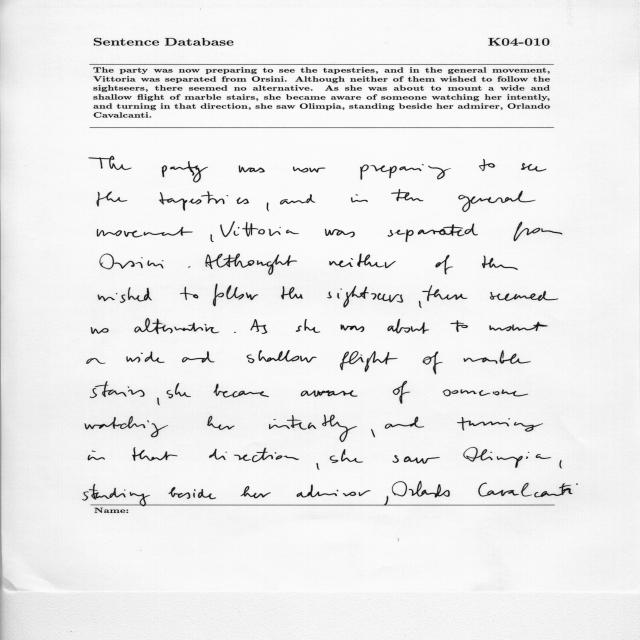word: (83, 484, 339, 505), (269, 415, 357, 442), (205, 254, 297, 275), (463, 447, 551, 468), (159, 191, 249, 211), (85, 416, 168, 437), (388, 223, 478, 242), (328, 286, 404, 308), (459, 191, 536, 212), (360, 164, 451, 180), (135, 318, 220, 334), (457, 417, 543, 432), (209, 448, 299, 462), (340, 351, 397, 372), (220, 222, 299, 237), (162, 161, 208, 183), (213, 284, 258, 306), (97, 227, 193, 237), (100, 254, 164, 269), (463, 350, 531, 364), (329, 254, 396, 268), (514, 222, 563, 241), (91, 381, 145, 398), (247, 350, 317, 363), (98, 287, 152, 303), (521, 483, 573, 498), (214, 384, 269, 398), (423, 285, 468, 301), (409, 481, 450, 498), (490, 291, 558, 301), (132, 447, 178, 461), (387, 319, 429, 334), (89, 156, 132, 170), (443, 390, 528, 397), (478, 483, 519, 497), (384, 481, 407, 505), (482, 255, 518, 270), (489, 322, 548, 331), (385, 416, 424, 429), (330, 449, 363, 463), (423, 352, 443, 375), (127, 351, 165, 363), (97, 192, 127, 207), (392, 455, 440, 464), (301, 390, 358, 397), (391, 189, 424, 201), (182, 351, 215, 363), (393, 381, 410, 404), (280, 194, 315, 205), (207, 416, 234, 430), (167, 383, 191, 398), (435, 255, 453, 274), (296, 319, 320, 333), (281, 287, 303, 300), (251, 319, 268, 334), (325, 229, 355, 237), (180, 287, 198, 300), (451, 320, 468, 332), (521, 163, 546, 171), (293, 167, 325, 173), (479, 159, 495, 171), (341, 324, 365, 332), (239, 166, 265, 173), (88, 451, 105, 461), (343, 491, 371, 497), (351, 194, 368, 203), (91, 327, 109, 334), (87, 358, 106, 364), (210, 234, 214, 242), (371, 429, 375, 437), (157, 398, 160, 406), (559, 460, 562, 468), (419, 301, 422, 308), (317, 463, 320, 470), (267, 203, 269, 212), (188, 266, 190, 268), (576, 483, 578, 485), (234, 332, 236, 333)
